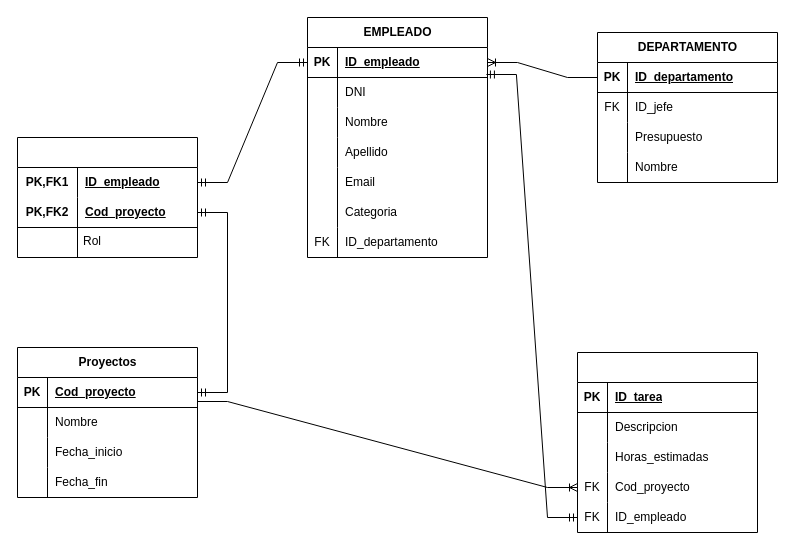
Some shapes in this 795 by 551 pixel diagram are drawn without their labels. The shapes that lost their labels are listed below. From the top down, each one's box as (x1, y1, x2, y2) in pixels, then its label:
(16, 136, 198, 258): PoyectoEmpleado
(576, 352, 758, 532): TAREAS
